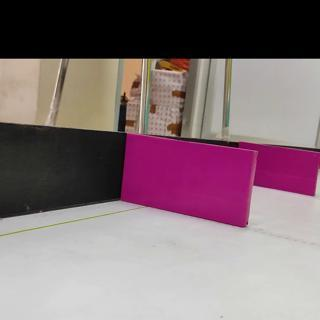xparking: (129, 153, 250, 216), (261, 155, 320, 192)
